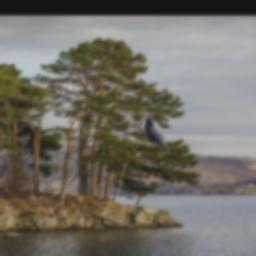Crow: (142, 117, 171, 154)
